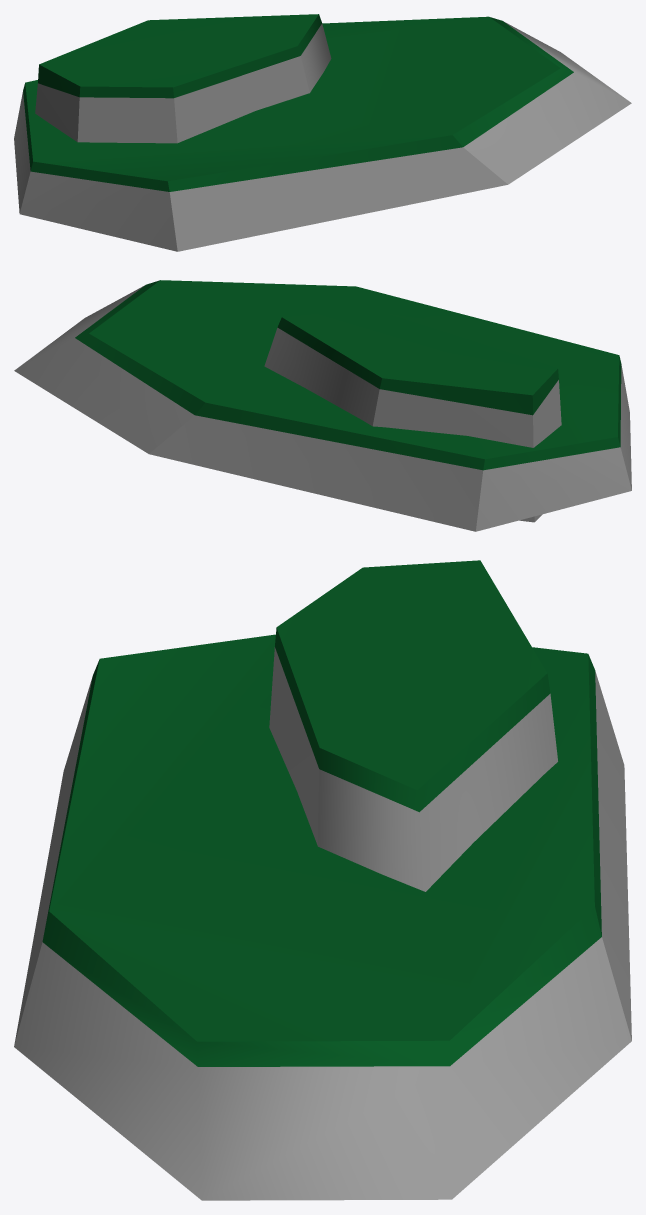
File: Obj_island_cliff.FBX
The picture shows the model from 3 angles, top to bottom: view 1: azimuth 30°, elevation 25°; view 2: azimuth 150°, elevation 25°; view 3: azimuth 270°, elevation 25°; orthographic projection. The views are drawn at different scales.
Parts seen in each view (by area): view 1: cliff1, cliff2; view 2: cliff1, cliff2; view 3: cliff1, cliff2.
Boxes of the visible parts, x1=… form: cliff1: x1=14, y1=16, x2=631, y2=251; cliff2: x1=35, y1=14, x2=331, y2=143; cliff1: x1=14, y1=280, x2=631, y2=531; cliff2: x1=264, y1=309, x2=561, y2=522; cliff1: x1=14, y1=634, x2=631, y2=1200; cliff2: x1=269, y1=560, x2=557, y2=891.
Bounding box in the file's own units: 31.84 × 16.65 × 6.34.
